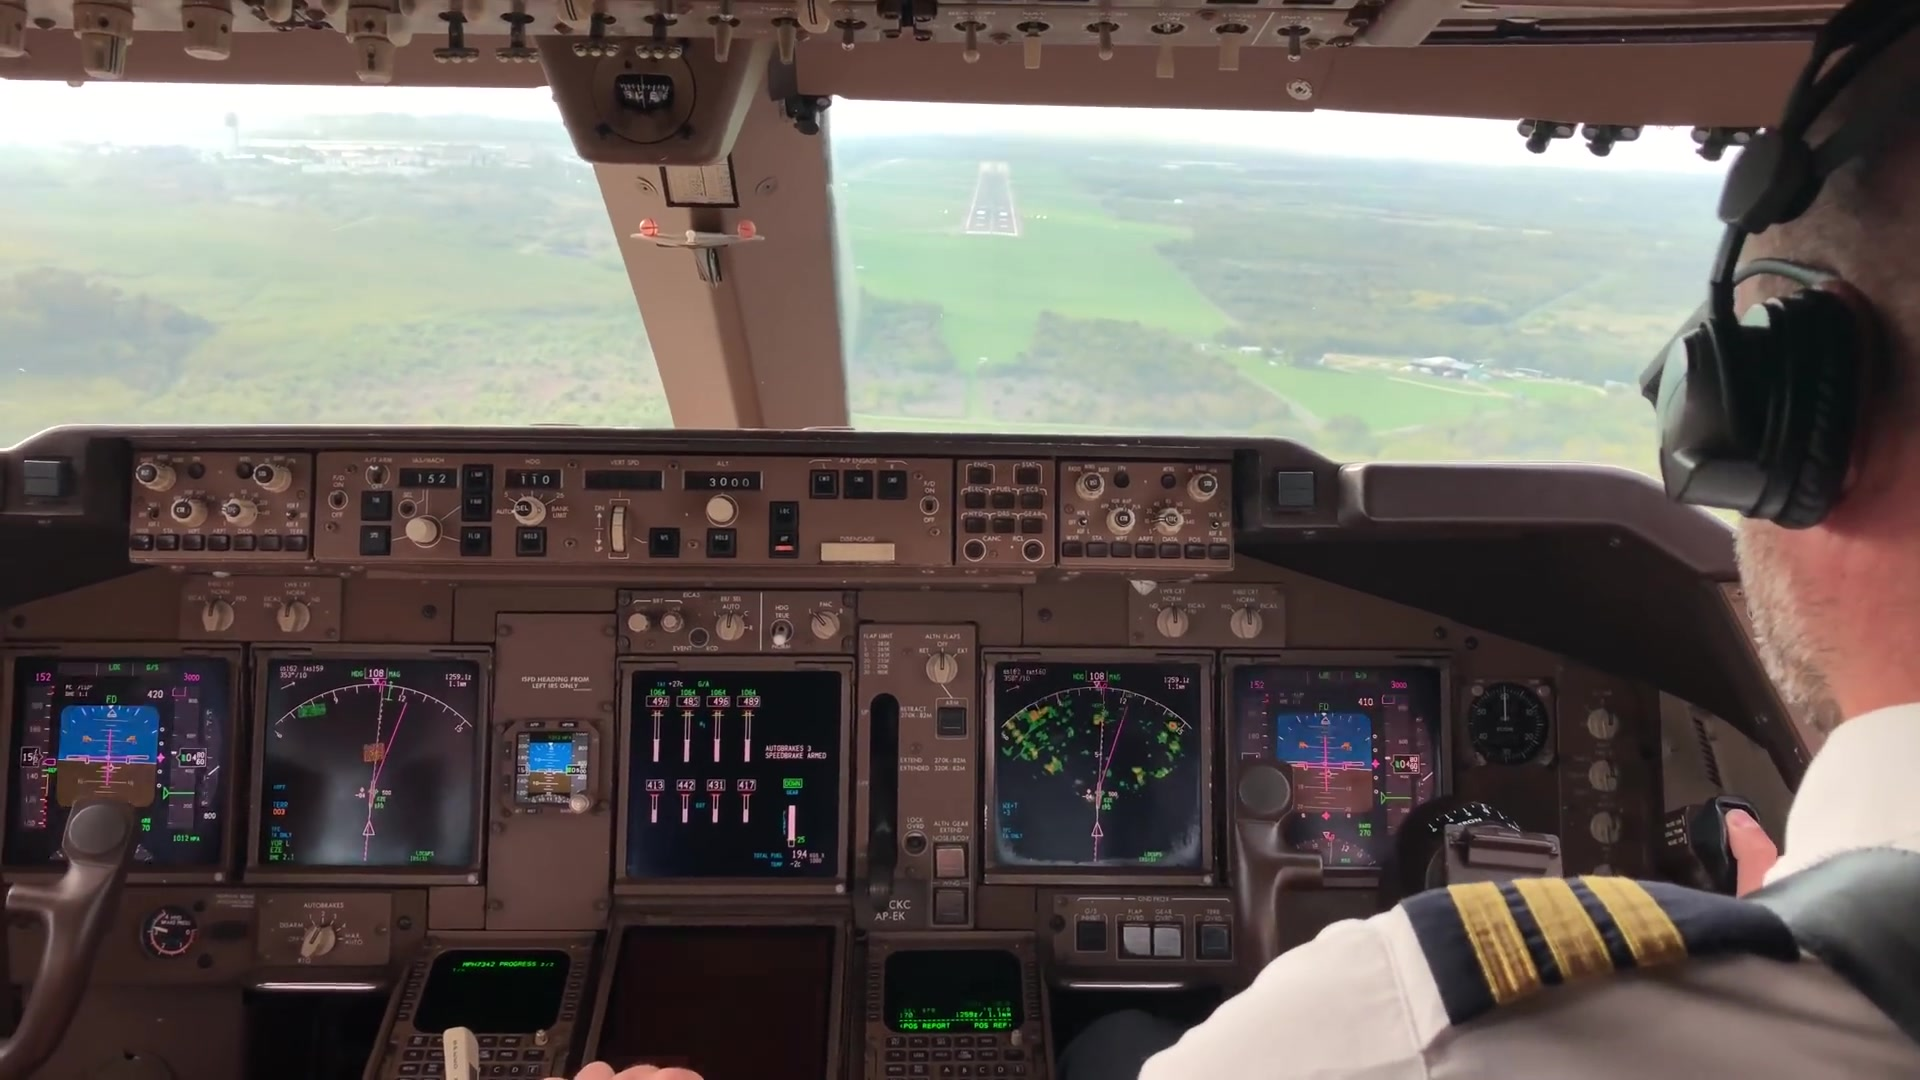runway: (960, 160, 1025, 241)
